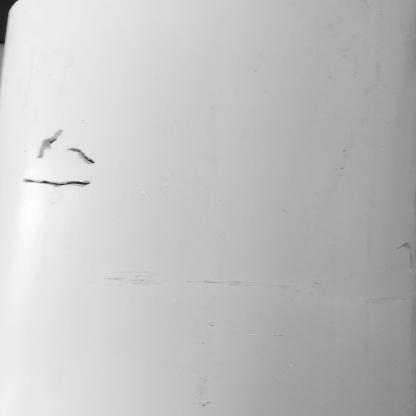fengxi: (17, 173, 100, 190)
sunshang: (27, 129, 105, 166)
